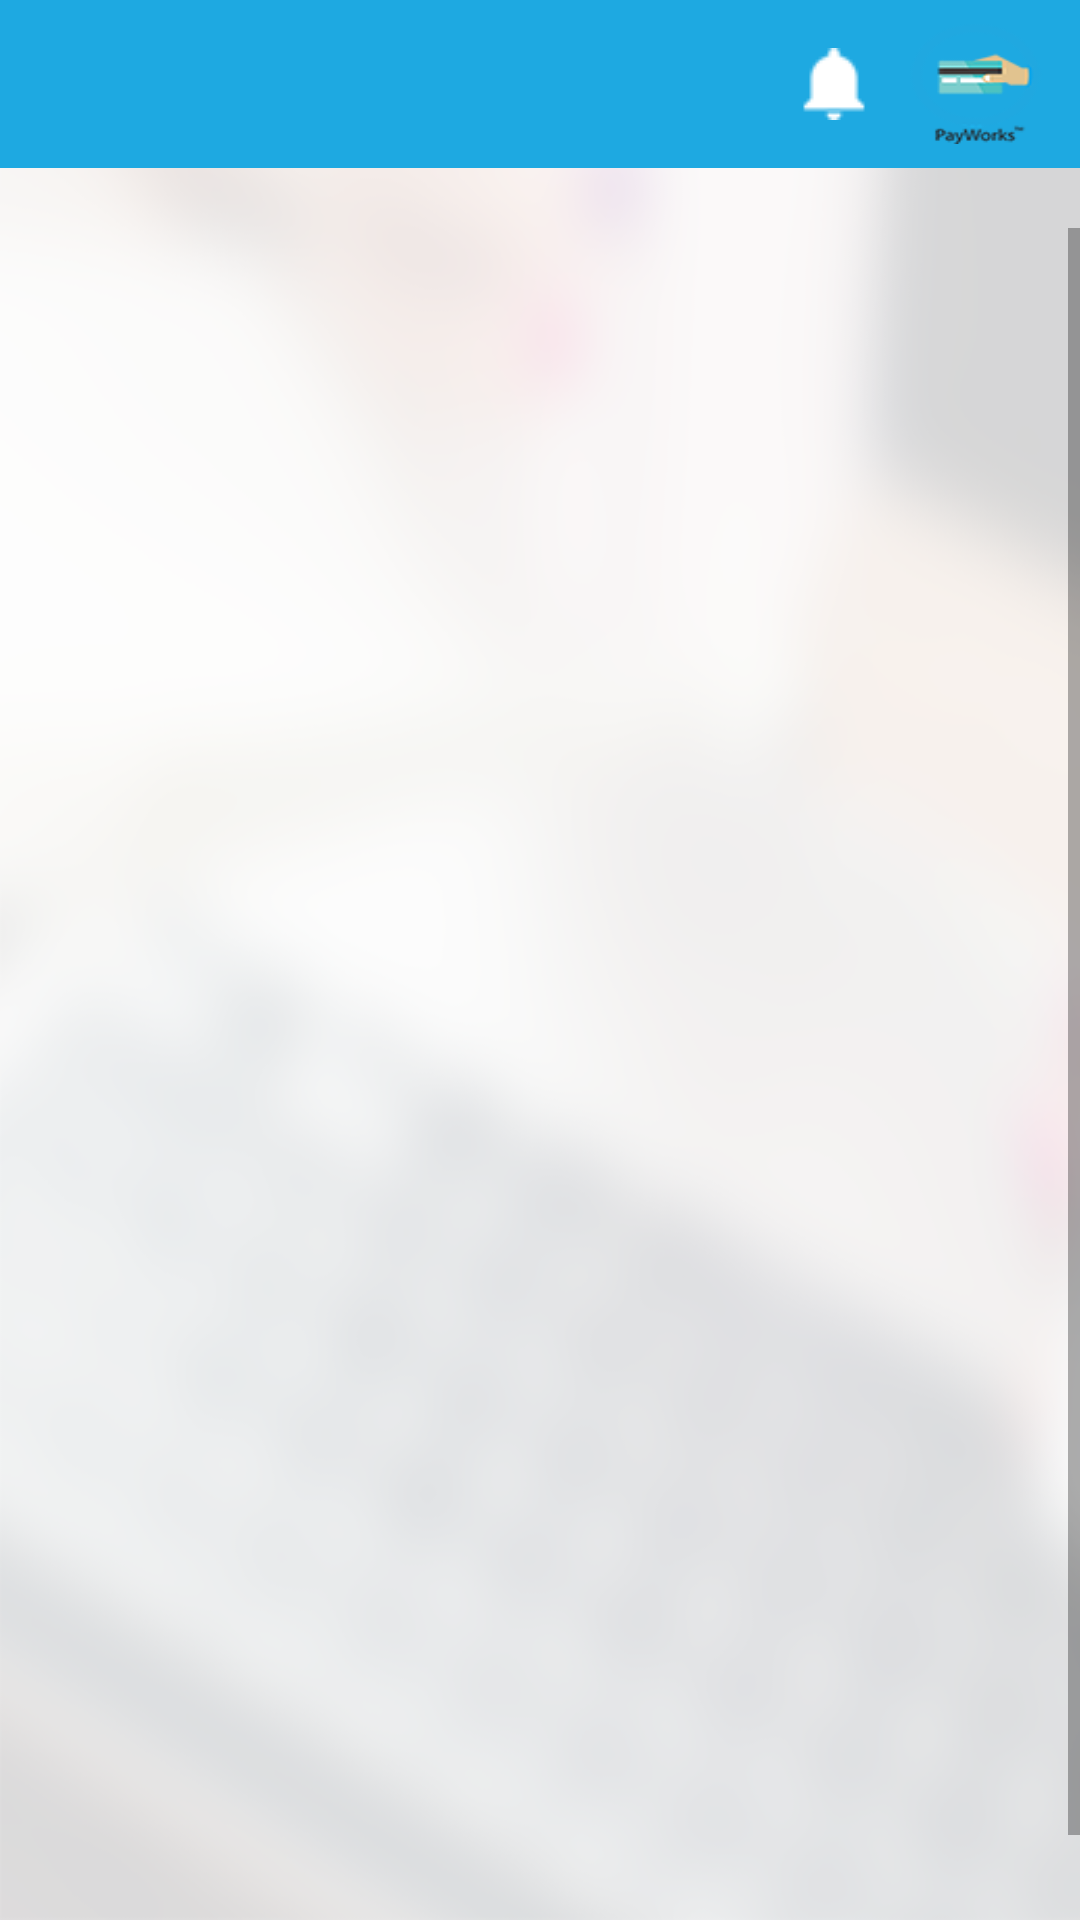

Screen size 1080 x 1920. Icon name, then its center in pixels as [x,y]:
bell: [834,84]
